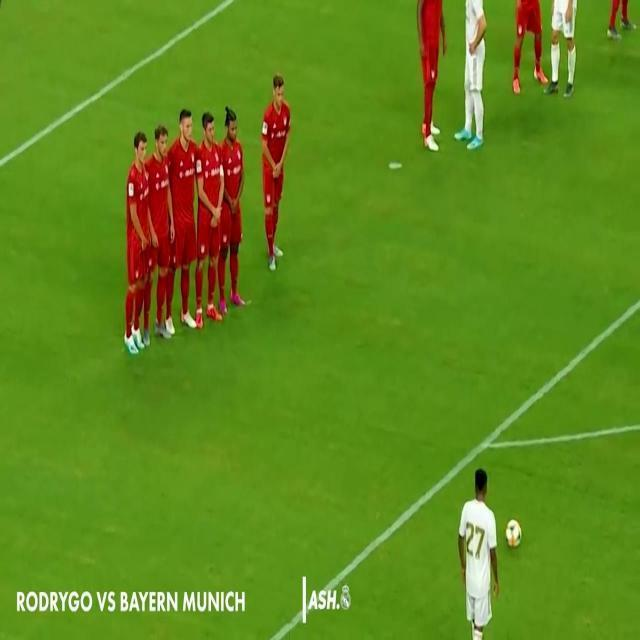ball: (503, 509, 527, 552)
player: (454, 459, 507, 640), (117, 131, 152, 363), (171, 105, 201, 335), (263, 71, 293, 274), (197, 113, 226, 322), (455, 0, 493, 155), (414, 0, 450, 159), (223, 105, 248, 308), (152, 123, 174, 344), (542, 0, 583, 100), (510, 0, 547, 100), (604, 0, 638, 39)
